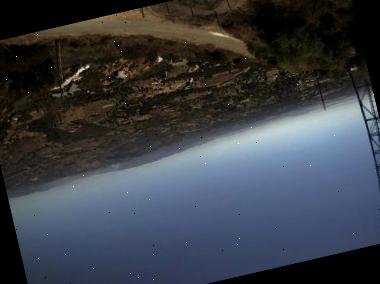smoke: (36, 161, 128, 197)
